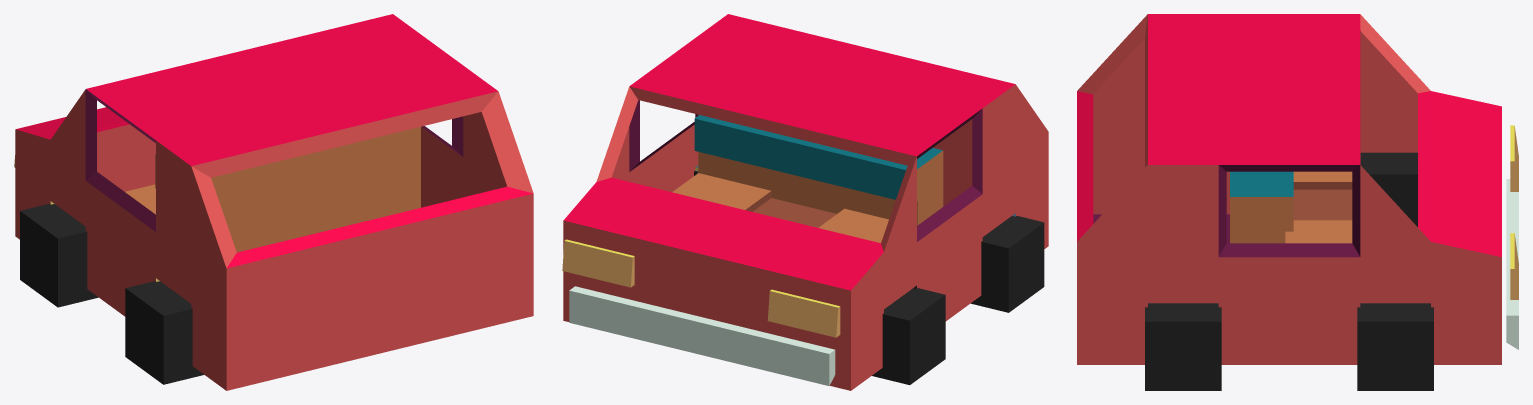
File: car.gltf
3 renders of one model, left to right at view 1: azimuth 30°, elevation 25°; view 2: azimuth 150°, elevation 25°; view 3: azimuth 270°, elevation 25°, orthographic. The views are drawn at different scales.
Parts seen in each view (by area): view 1: body, seat, wheel (×2); view 2: body, seat, wheel (×2), fender, light; view 3: body, wheel (×2), seat, fender, light.
Boxes of the visible parts, left/top/right/bottom form: body: left=15, top=14, right=533, bottom=390; seat: left=125, top=127, right=420, bottom=252; wheel (×2): left=20, top=204, right=203, bottom=384; body: left=563, top=14, right=1048, bottom=390; seat: left=672, top=115, right=943, bottom=243; wheel (×2): left=872, top=216, right=1044, bottom=384; fender: left=569, top=286, right=835, bottom=385; light: left=562, top=239, right=840, bottom=337; body: left=1077, top=14, right=1501, bottom=364; wheel (×2): left=1145, top=303, right=1433, bottom=390; seat: left=1230, top=171, right=1352, bottom=243; fender: left=1506, top=179, right=1518, bottom=349; light: left=1510, top=125, right=1518, bottom=299.
Bounding box in the file's own units: 0.1562 × 0.0859 × 0.1625.
Materials: 5 (5 with a texture image).
